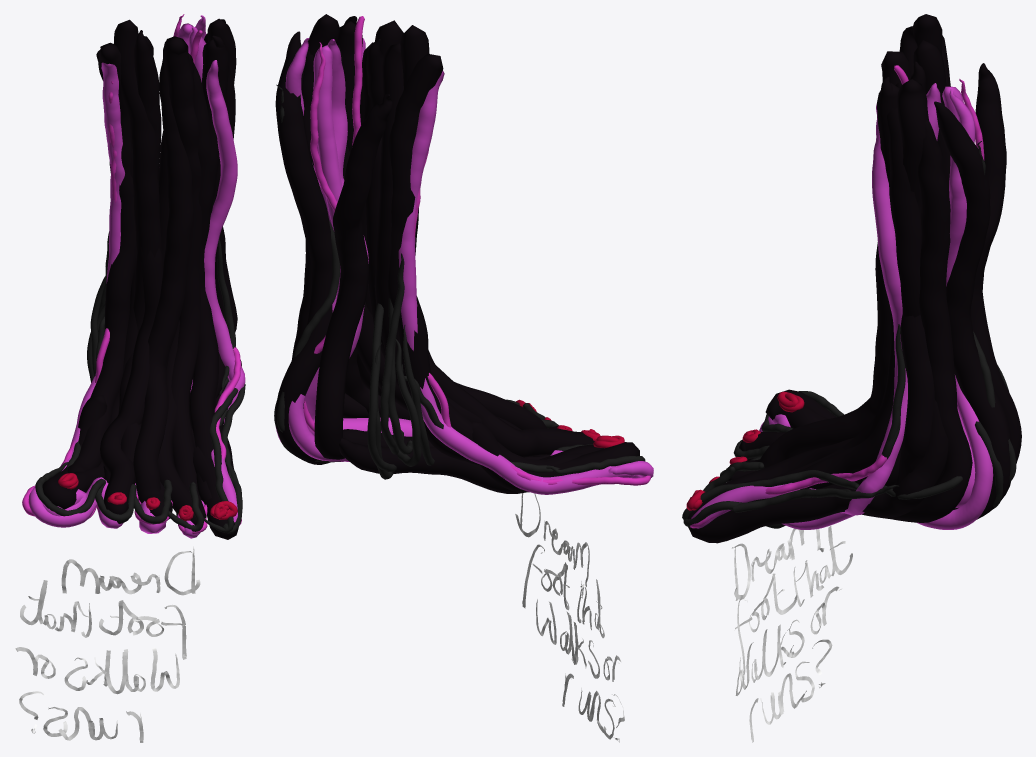
3 views of the same model, side by side, from view 1: azimuth 30°, elevation 25°; view 2: azimuth 150°, elevation 25°; view 3: azimuth 270°, elevation 25° (orthographic). The views are drawn at different scales.
Parts seen in each view (by area): view 1: brush_Wire_g0_b0, brush_DoubleTaperedMarker_g0_b0; view 2: brush_Wire_g0_b0, brush_DoubleTaperedMarker_g0_b0; view 3: brush_Wire_g0_b0, brush_DoubleTaperedMarker_g0_b0.
Part boxes in pixels (x1,y1,x2,y2): brush_Wire_g0_b0: (22,14,245,539); brush_DoubleTaperedMarker_g0_b0: (14,546,200,742); brush_Wire_g0_b0: (274,14,653,494); brush_DoubleTaperedMarker_g0_b0: (515,493,624,742); brush_Wire_g0_b0: (682,14,1021,543); brush_DoubleTaperedMarker_g0_b0: (732,526,852,742).
Size of the model in its own units: 0.5726 by 1.35 by 0.5429.
